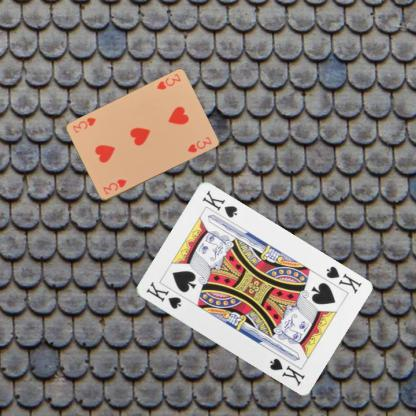3h: (154, 71, 182, 91), (100, 177, 128, 196)
Ks: (322, 264, 363, 296), (143, 279, 183, 310)
